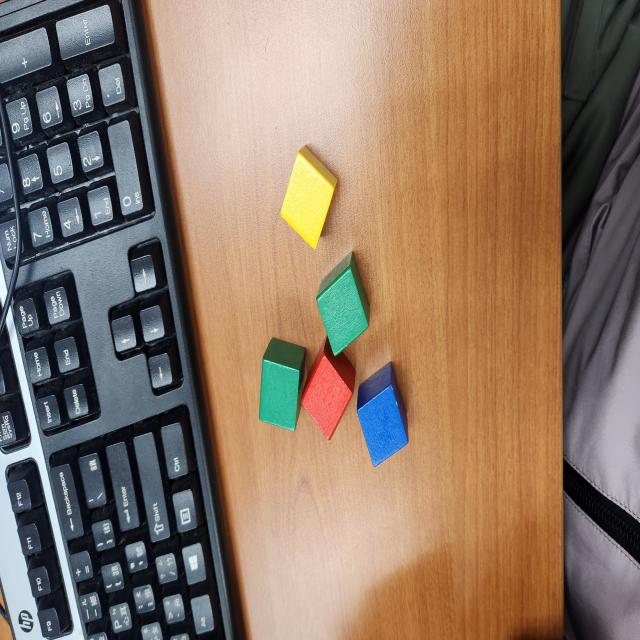blue: (357, 360, 408, 467)
green: (314, 252, 370, 356), (258, 336, 307, 432)
red: (298, 336, 356, 440)
yellow: (279, 145, 339, 253)
